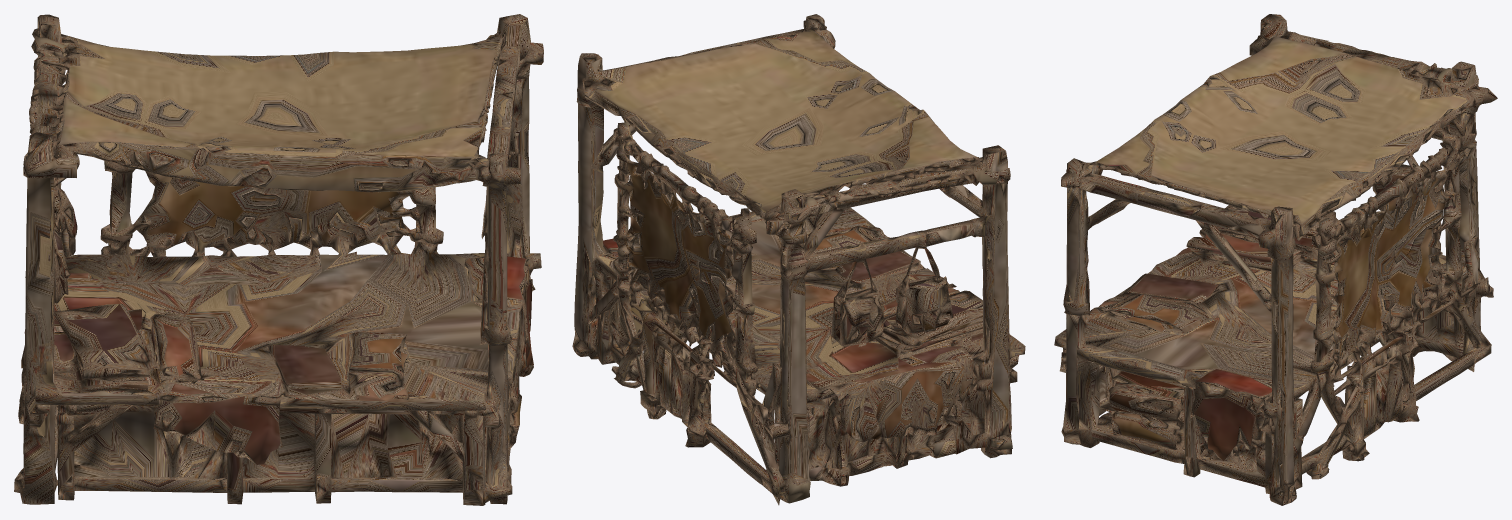
Rendered from tanner-market-stall-pixal3d.glb.
The picture shows the model from 3 angles, left to right: view 1: azimuth 30°, elevation 25°; view 2: azimuth 150°, elevation 25°; view 3: azimuth 270°, elevation 25°; orthographic projection. The views are drawn at different scales.
Parts seen in each view (by area): view 1: geometry_0; view 2: geometry_0; view 3: geometry_0.
Part boxes in pixels (bbox=[...]): geometry_0: bbox=[14, 14, 543, 505]; geometry_0: bbox=[572, 14, 1025, 505]; geometry_0: bbox=[1054, 14, 1497, 505].
Size of the model in its own units: 4.13 by 2.8 by 3.71.
Materials: 1 (1 with a texture image).
